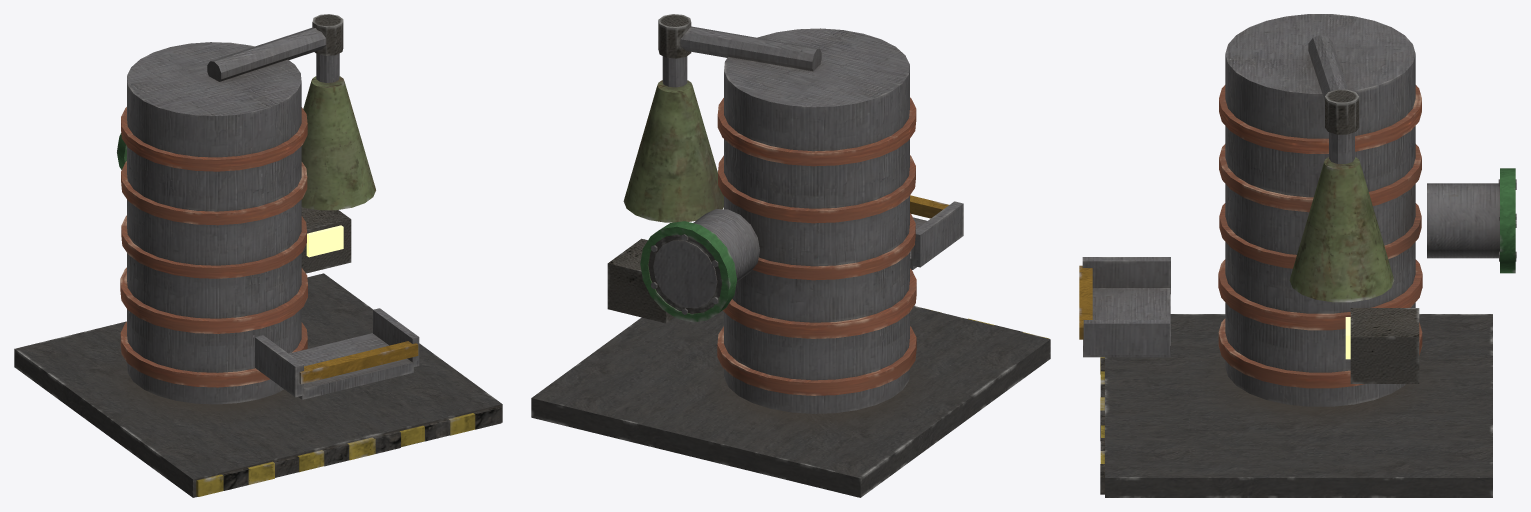
File: feCracker_HD.fbx
The picture shows the model from 3 angles, left to right: view 1: azimuth 30°, elevation 25°; view 2: azimuth 150°, elevation 25°; view 3: azimuth 270°, elevation 25°; orthographic projection. The views are drawn at different scales.
Visible parts, largest first — view 1: feCracker_Base; view 2: feCracker_Base; view 3: feCracker_Base.
Part boxes in pixels (<box>): feCracker_Base: <box>14,14,502,497</box>; feCracker_Base: <box>531,14,1050,497</box>; feCracker_Base: <box>1079,14,1516,497</box>.
Size of the model in its own units: 0.9012 by 0.9405 by 1.02.
2 materials, 1 textured.
